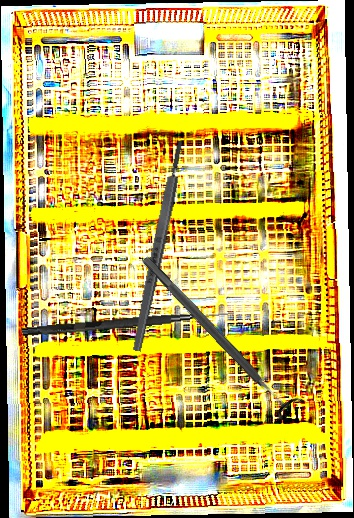Fixation Ring: (132, 246, 307, 426)
Hook Surgical: (22, 305, 234, 340)
Scalpel Handle: (129, 139, 188, 353)
